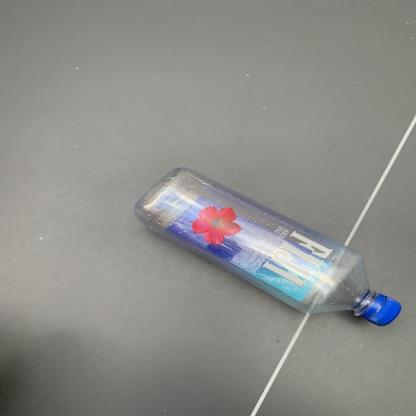trash: (135, 166, 404, 334)
